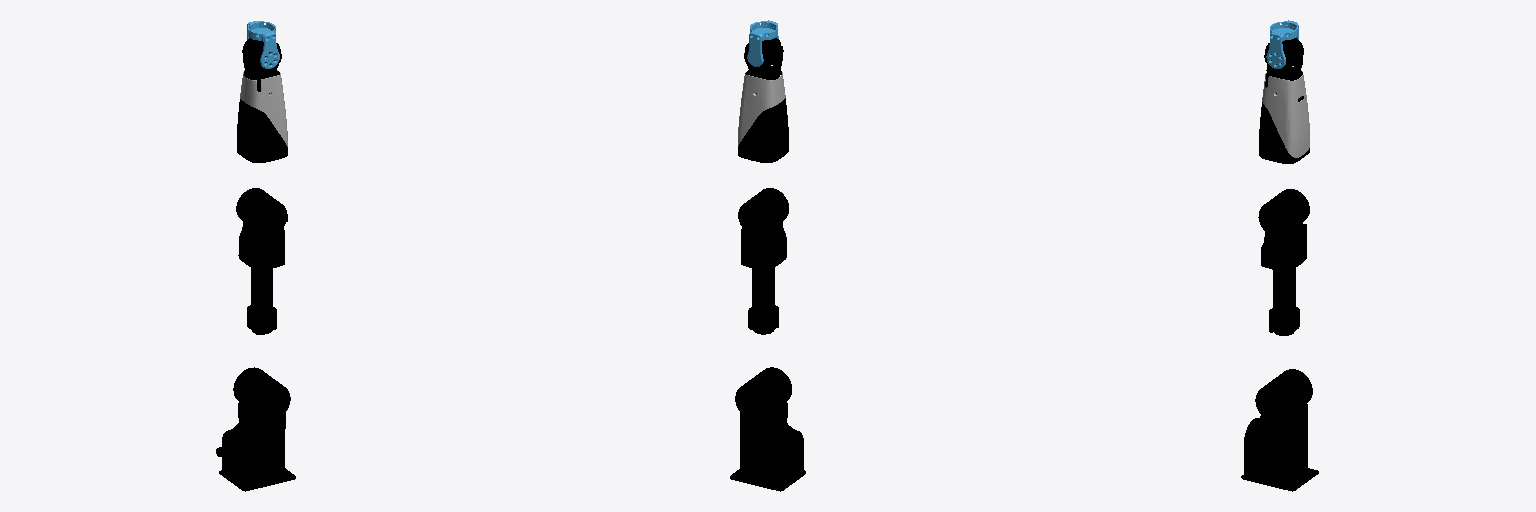
URDF robot description (nero_description):
<?xml version="1.0" encoding="utf-8"?>
<!-- This URDF was automatically created by SolidWorks to URDF Exporter! Originally created by [author] ([email redacted]) 
     Commit Version: 1.6.0-4-g7f85cfe  Build Version: 1.6.7995.38578
     For more information, please see http://wiki.ros.org/sw_urdf_exporter -->
<robot name="nero_description">
    <link name="world"/>
    <joint name="world_to_base_link" type="fixed">
        <parent link="world"/>
        <child link="base_link"/>
        <origin xyz="0 0 0" rpy="0 0 0"/>
    </joint>
    <link name="base_link">
        <inertial>
            <origin xyz="-0.00963614954335565 0.00016786624100977 0.044860101664403" rpy="0 0 0"/>
            <mass value="0.77"/>
            <inertia ixx="0.0006669" ixy="0.0" ixz="0.0" iyy="0.00054501" iyz="0.0" izz="0.00051509"/>
        </inertial>
        <visual>
            <origin xyz="0 0 0" rpy="0 0 0"/>
            <geometry>
                <mesh filename="package://nero_description/meshes/dae/base_link.dae"/>
            </geometry>
        </visual>
        <collision>
            <origin xyz="0 0 0" rpy="0 0 0"/>
            <geometry>
                <mesh filename="package://nero_description/meshes/base_link.STL"/>
            </geometry>
        </collision>
    </link>
    <link name="link1">
        <inertial>
            <origin xyz="-0.00077 -0.00006 -0.00686" rpy="0 0 0"/>
            <mass value="0.77"/>
            <inertia ixx="0.0006669" ixy="0.0" ixz="0.0" iyy="0.00054501" iyz="0.0" izz="0.00051509"/>
        </inertial>
        <visual>
            <origin xyz="0 0 0" rpy="0 0 0"/>
            <geometry>
                <mesh filename="package://nero_description/meshes/dae/link1.dae"/>
            </geometry>
        </visual>
        <collision>
            <origin xyz="0 0 0" rpy="0 0 0"/>
            <geometry>
                <mesh filename="package://nero_description/meshes/Link1.STL"/>
            </geometry>
        </collision>
    </link>
    <joint name="joint1" type="revolute">
        <origin xyz="0 0 0.138" rpy="0 0 0"/>
        <parent link="base_link"/>
        <child link="link1"/>
        <axis xyz="0 0 1"/>
        <limit lower="-2.7" upper="2.7" effort="0" velocity="0"/>
    </joint>
    <link name="link2">
        <inertial>
            <origin xyz="-0.00011 -0.06072 0.00148" rpy="0 0 0"/>
            <mass value="0.49"/>
            <inertia ixx="0.00053808" ixy="0.0" ixz="0.0" iyy="0.00029435" iyz="0.0" izz="0.00040266"/>
        </inertial>
        <visual>
            <origin xyz="0 0 0" rpy="0 0 0"/>
            <geometry>
                <mesh filename="package://nero_description/meshes/dae/link2.dae"/>
            </geometry>
        </visual>
        <collision>
            <origin xyz="0 0 0" rpy="0 0 0"/>
            <geometry>
                <mesh filename="package://nero_description/meshes/Link2.STL"/>
            </geometry>
        </collision>
    </link>
    <joint name="joint2" type="revolute">
        <origin xyz="0 0 0" rpy="1.5708 3.1415 0"/>
        <parent link="link1"/>
        <child link="link2"/>
        <axis xyz="0 0 1"/>
        <limit lower="-1.74" upper="1.74" effort="0" velocity="0"/>
    </joint>
    <link name="link3">
        <inertial>
            <origin xyz="0.00014 0.00211 -0.04853" rpy="0 0 0"/>
            <mass value="0.67"/>
            <inertia ixx="0.00342528" ixy="0.0" ixz="0.0" iyy="0.0033924" iyz="0.0" izz="0.00026169"/>
        </inertial>
        <visual>
            <origin xyz="0 0 0" rpy="0 0 0"/>
            <geometry>
                <mesh filename="package://nero_description/meshes/dae/link3.dae"/>
            </geometry>
        </visual>
        <collision>
            <origin xyz="0 0 0" rpy="0 0 0"/>
            <geometry>
                <mesh filename="package://nero_description/meshes/Link3.STL"/>
            </geometry>
        </collision>
    </link>
    <joint name="joint3" type="revolute">
        <origin xyz="0 -0.31 0" rpy="-1.5708 0 3.1416"/>
        <parent link="link2"/>
        <child link="link3"/>
        <axis xyz="0 0 1"/>
        <limit lower="-2.75" upper="2.75" effort="0" velocity="0"/>
    </joint>
    <link name="link4">
        <inertial>
            <origin xyz="-0.00013 -0.05482 0.00132" rpy="0 0 0"/>
            <mass value="0.41"/>
            <inertia ixx="0.00031331" ixy="0.0" ixz="0.0" iyy="0.00013204" iyz="0.0" izz="0.0002393"/>
        </inertial>
        <visual>
            <origin xyz="0 0 0" rpy="0 0 0"/>
            <geometry>
                <mesh filename="package://nero_description/meshes/dae/link4.dae"/>
            </geometry>
        </visual>
        <collision>
            <origin xyz="0 0 0" rpy="0 0 0"/>
            <geometry>
                <mesh filename="package://nero_description/meshes/Link4.STL"/>
            </geometry>
        </collision>
    </link>
    <joint name="joint4" type="revolute">
        <origin xyz="0 0 0" rpy="-1.5708 0 3.1416"/>
        <parent link="link3"/>
        <child link="link4"/>
        <axis xyz="0 0 1"/>
        <limit lower="-1.01" upper="2.14" effort="0" velocity="0"/>
    </joint>
    <link name="link5">
        <inertial>
            <origin xyz="0.00303 0.00617 -0.11778" rpy="0 0 0"/>
            <mass value="0.56"/>
            <inertia ixx="0.0008249" ixy="0.0" ixz="0.0" iyy="0.00078548" iyz="0.0" izz="0.00021015"/>
        </inertial>
        <visual>
            <origin xyz="0 0 0" rpy="0 0 0"/>
            <geometry>
                <mesh filename="package://nero_description/meshes/dae/link5.dae"/>
            </geometry>
        </visual>
        <collision>
            <origin xyz="0 0 0" rpy="0 0 0"/>
            <geometry>
                <mesh filename="package://nero_description/meshes/Link5.STL"/>
            </geometry>
        </collision>
    </link>
    <joint name="joint5" type="revolute">
        <origin xyz="0 -0.27001 0" rpy="1.5708 -1.5708 0"/>
        <parent link="link4"/>
        <child link="link5"/>
        <axis xyz="0 0 1"/>
        <limit lower="-2.75" upper="2.75" effort="0" velocity="0"/>
    </joint>
    <link name="link6">
        <inertial>
            <origin xyz="0.00014 -0.0027 -0.00025" rpy="0 0 0"/>
            <mass value="0.31"/>
            <inertia ixx="0.00008181" ixy="0.0" ixz="0.0" iyy="0.00007176" iyz="0.0" izz="0.00007906"/>
        </inertial>
        <visual>
            <origin xyz="0 0 0" rpy="0 0 0"/>
            <geometry>
                <mesh filename="package://nero_description/meshes/dae/link6.dae"/>
            </geometry>
        </visual>
        <collision>
            <origin xyz="0 0 0" rpy="0 0 0"/>
            <geometry>
                <mesh filename="package://nero_description/meshes/Link6.STL"/>
            </geometry>
        </collision>
    </link>
    <joint name="joint6" type="revolute">
        <origin xyz="0 0 0" rpy="1.5708 -1.5708 0"/>
        <parent link="link5"/>
        <child link="link6"/>
        <axis xyz="0 0 1"/>
        <limit lower="-0.73" upper="0.95" effort="0" velocity="0"/>
    </joint>
    <link name="link7">
        <inertial>
            <origin xyz="-0.00014000 -0.00010000 -0.00275000" rpy="0 0 0"/>
            <mass value="0.000001"/>
            <inertia ixx="1.1000000000000001e-07" ixy="0" ixz="0" iyy="1.1000000000000001e-07" iyz="0" izz="1.9999999999999999e-07"/>
        </inertial>
        <visual>
            <origin xyz="0 0 0" rpy="0 0 0"/>
            <geometry>
                <mesh filename="package://nero_description/meshes/dae/link7.dae"/>
            </geometry>
        </visual>
        <collision>
            <origin xyz="0 0 0" rpy="0 0 0"/>
            <geometry>
                <mesh filename="package://nero_description/meshes/Link7.STL"/>
            </geometry>
        </collision>
    </link>
    <joint name="joint7" type="revolute">
        <origin xyz="0 -0.0235 0" rpy="1.5708 0 0"/>
        <parent link="link6"/>
        <child link="link7"/>
        <axis xyz="0 0 1"/>
        <limit lower="-1.57" upper="1.57" effort="0" velocity="0"/>
    </joint>
    <link name="end_effector">
        <inertial>
        <origin xyz="-0.01208 -0.00025 0.00032" rpy="0 0 0"/>
        <mass value="0.05"/>
        <inertia
            ixx="2.697e-05"
            ixy="0"
            ixz="0"
            iyy="4.311e-05"
            iyz="0"
            izz="2.479e-05"/>
        </inertial>
        <visual>
            <origin xyz="0 0 0" rpy="-1.57 -1.57 -1.57"/>
            <geometry>
                <mesh filename="package://nero_description/meshes/stand_v1.dae"/>
            </geometry>
        </visual>
        <collision>
            <origin xyz="0 0 0" rpy="-1.57 -1.57 -1.57"/>
            <geometry>
                <mesh filename="package://nero_description/meshes/stand_v1.dae"/>
            </geometry>
        </collision>
    </link>
    <joint name="end_effector_joint" type="fixed">
        <origin xyz="0.033 0.00000000 -0.02350000" rpy="0 0 0"/>
        <parent link="link7"/>
        <child link="end_effector"/>
    </joint>
</robot>

--- Render facts (derived) ---
Views: 3 orthographic renders of the robot side by side, from view 1: azimuth 30°, elevation 25°; view 2: azimuth 150°, elevation 25°; view 3: azimuth 330°, elevation 25°.
Model nero_description with 10 links and 9 joints (7 revolute, 2 fixed), rooted at world, posed all joints at 0.
Visible links, largest first — view 1: link3, link5, base_link, link1, end_effector; view 2: link3, link5, base_link, link1, end_effector; view 3: link3, link5, base_link, link1, end_effector.
Link boxes in pixels (left/top/right/bottom): link3: left=236, top=188, right=287, bottom=334; link5: left=237, top=43, right=287, bottom=162; base_link: left=216, top=423, right=295, bottom=491; link1: left=233, top=367, right=290, bottom=434; end_effector: left=247, top=21, right=279, bottom=68; link3: left=738, top=188, right=788, bottom=334; link5: left=738, top=43, right=788, bottom=162; base_link: left=730, top=423, right=805, bottom=491; link1: left=735, top=367, right=791, bottom=434; end_effector: left=747, top=20, right=778, bottom=66; link3: left=1258, top=189, right=1309, bottom=335; link5: left=1259, top=43, right=1309, bottom=163; base_link: left=1241, top=418, right=1318, bottom=491; link1: left=1255, top=369, right=1312, bottom=436; end_effector: left=1266, top=20, right=1298, bottom=68.
Bounding box of the posed robot: 0.109 × 0.0807 × 0.7628 m (x, y, z).
Meshes: 9 distinct files referenced, 7 mesh visuals loaded (7 Collada DAE); not drawn: 2 (reference not matched to a file when rendering).
